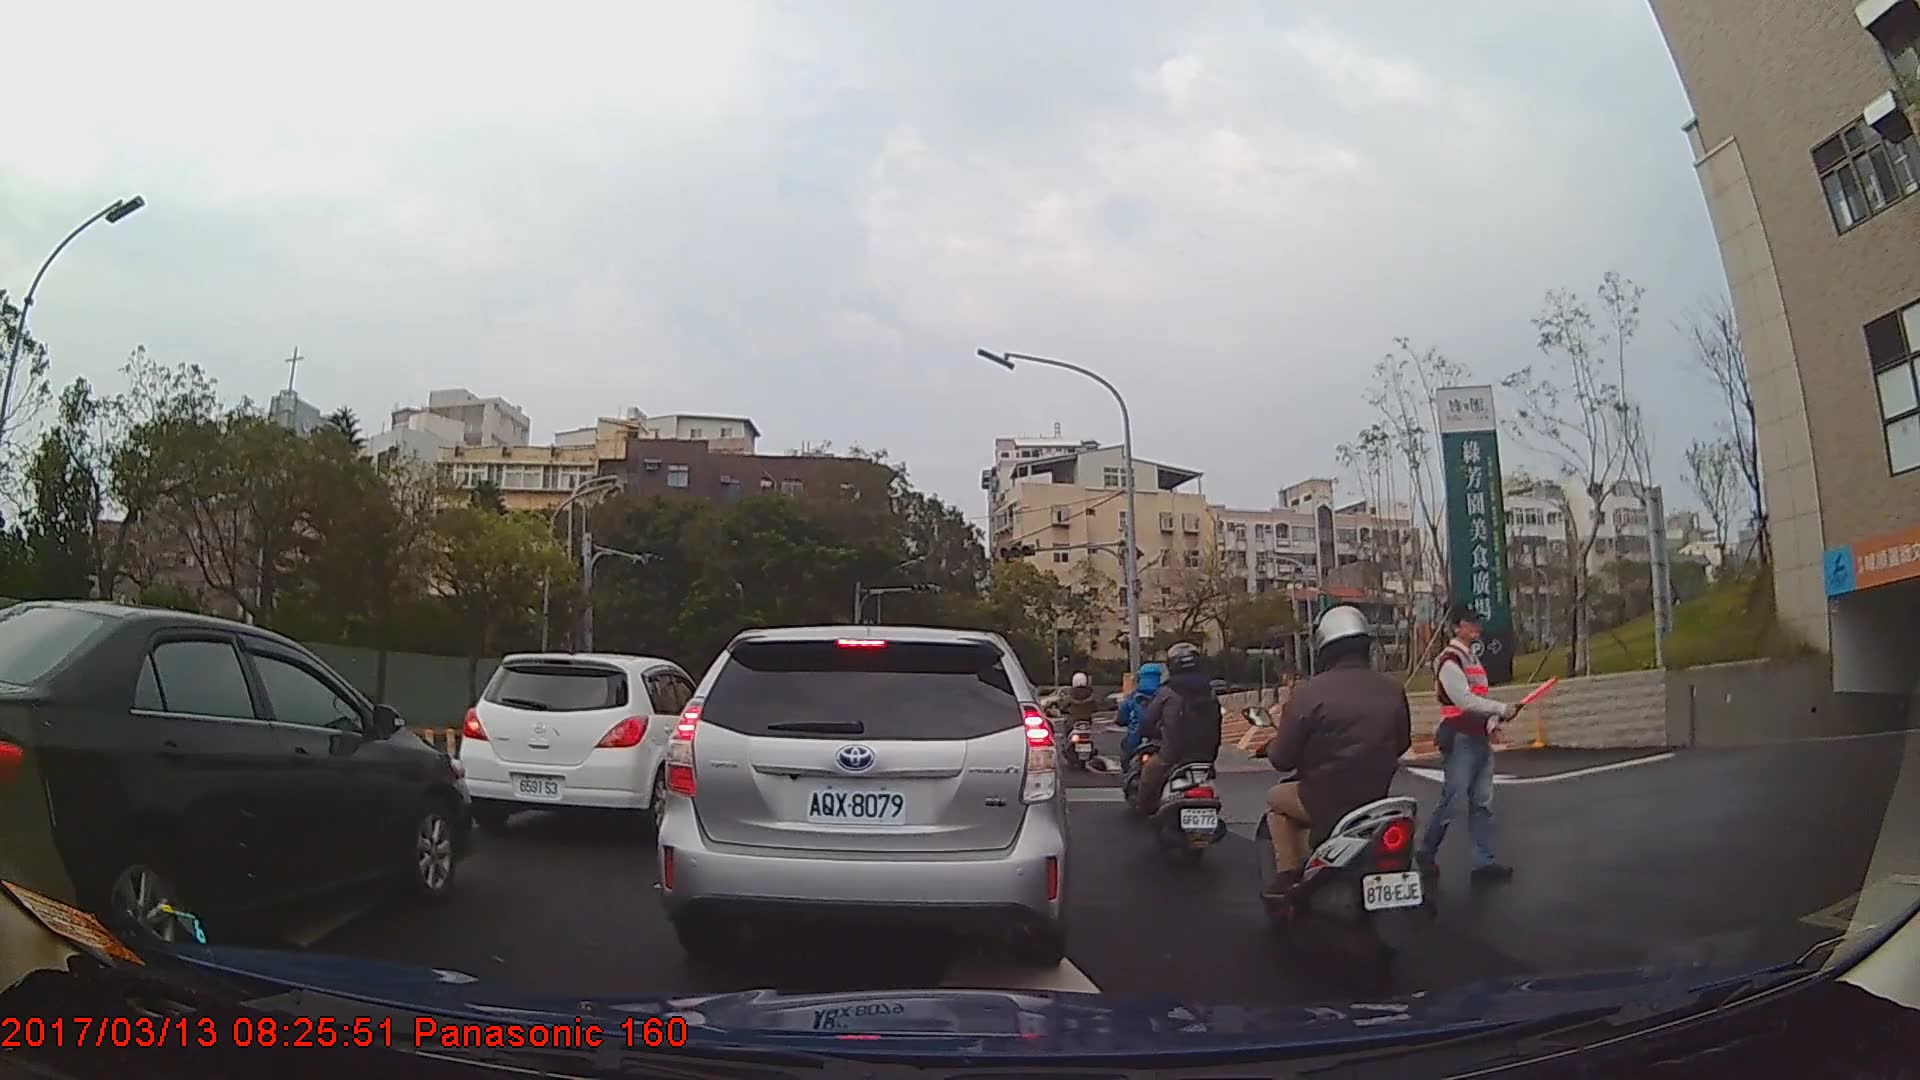pedestrian: (1407, 601, 1549, 882)
rider: (1251, 604, 1441, 970), (1134, 642, 1227, 866), (1112, 661, 1171, 812), (1061, 671, 1102, 773)
vehicle: (0, 598, 470, 966), (655, 623, 1069, 961), (457, 651, 723, 840)
